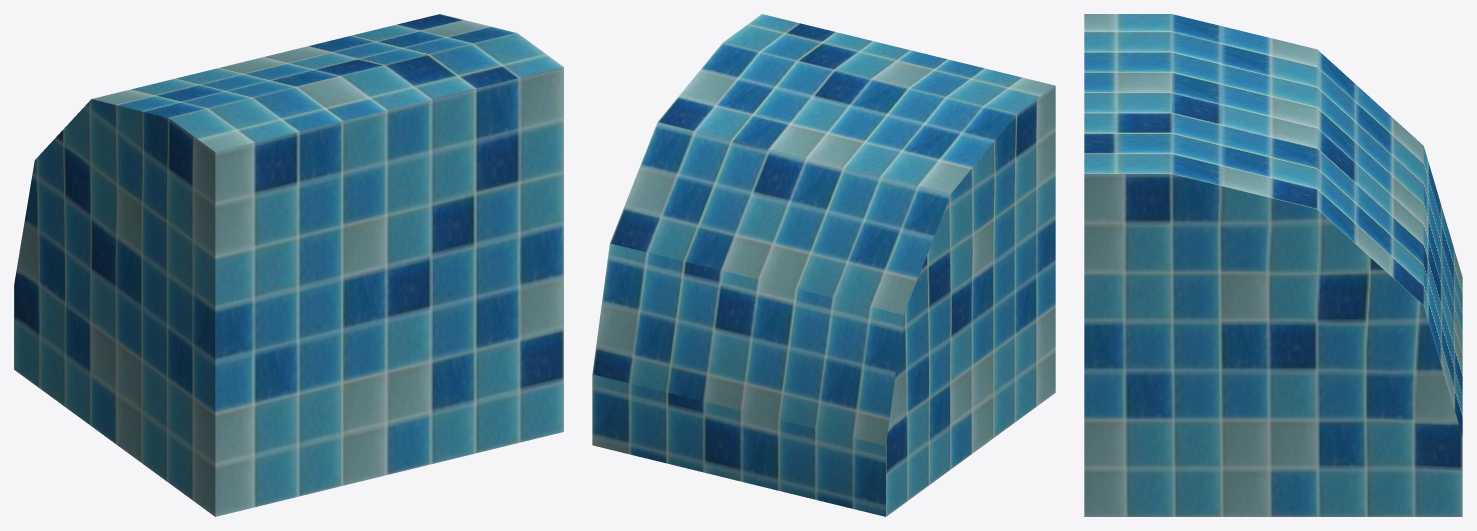
File: POL0410003.fbx
3 views of the same model, side by side, from view 1: azimuth 30°, elevation 25°; view 2: azimuth 150°, elevation 25°; view 3: azimuth 270°, elevation 25° (orthographic). The views are drawn at different scales.
Visible parts, largest first — view 1: smPOL0410003; view 2: smPOL0410003; view 3: smPOL0410003.
Part boxes in pixels (left/top/right/bottom): smPOL0410003: left=14, top=14, right=563, bottom=516; smPOL0410003: left=592, top=14, right=1055, bottom=516; smPOL0410003: left=1084, top=14, right=1462, bottom=516.
Size of the model in its own units: 161 by 161 by 161.
1 material, 1 textured.
